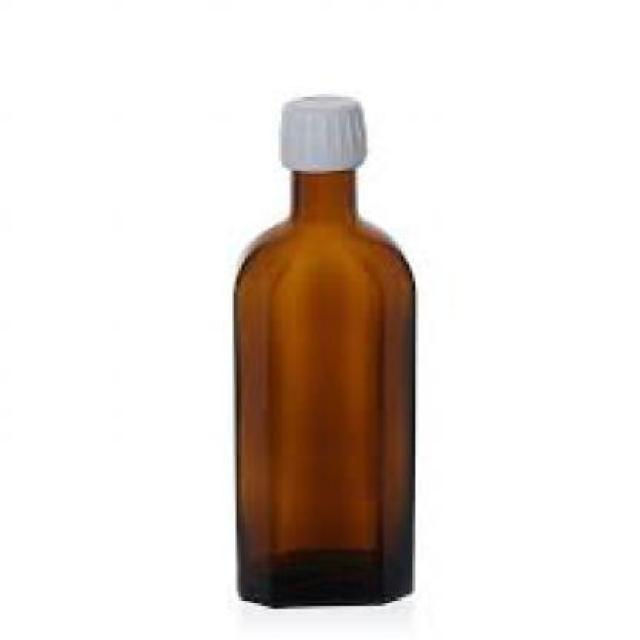kaca: (231, 168, 412, 606)
